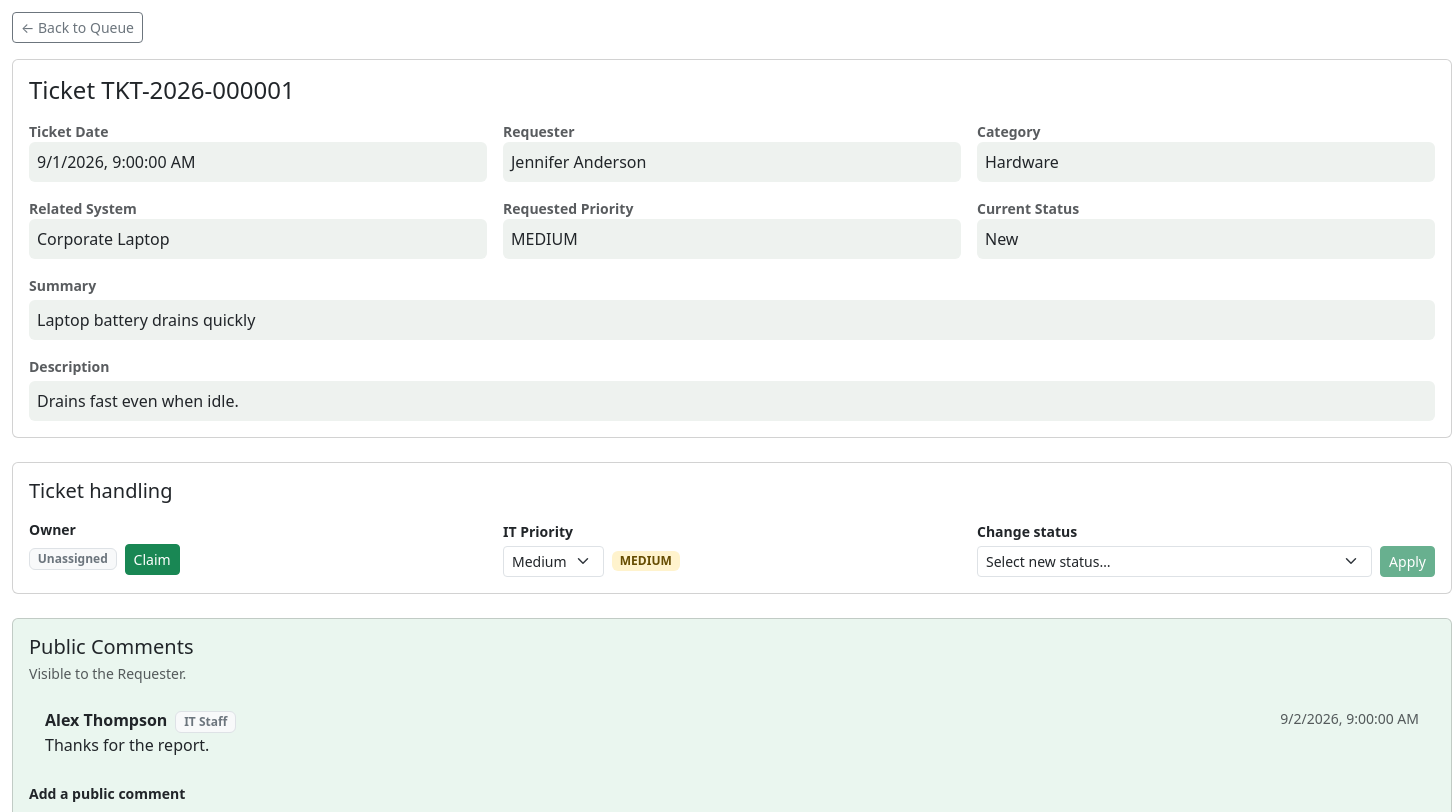
Test case: StaffTicketDetail › claims an unassigned ticket and then shows the owner
Expected: the heading "Ticket TKT-2026-000001" is shown, [29,73,295,106]
Click the button "Claim" at (152, 559), box [125,544,180,575]
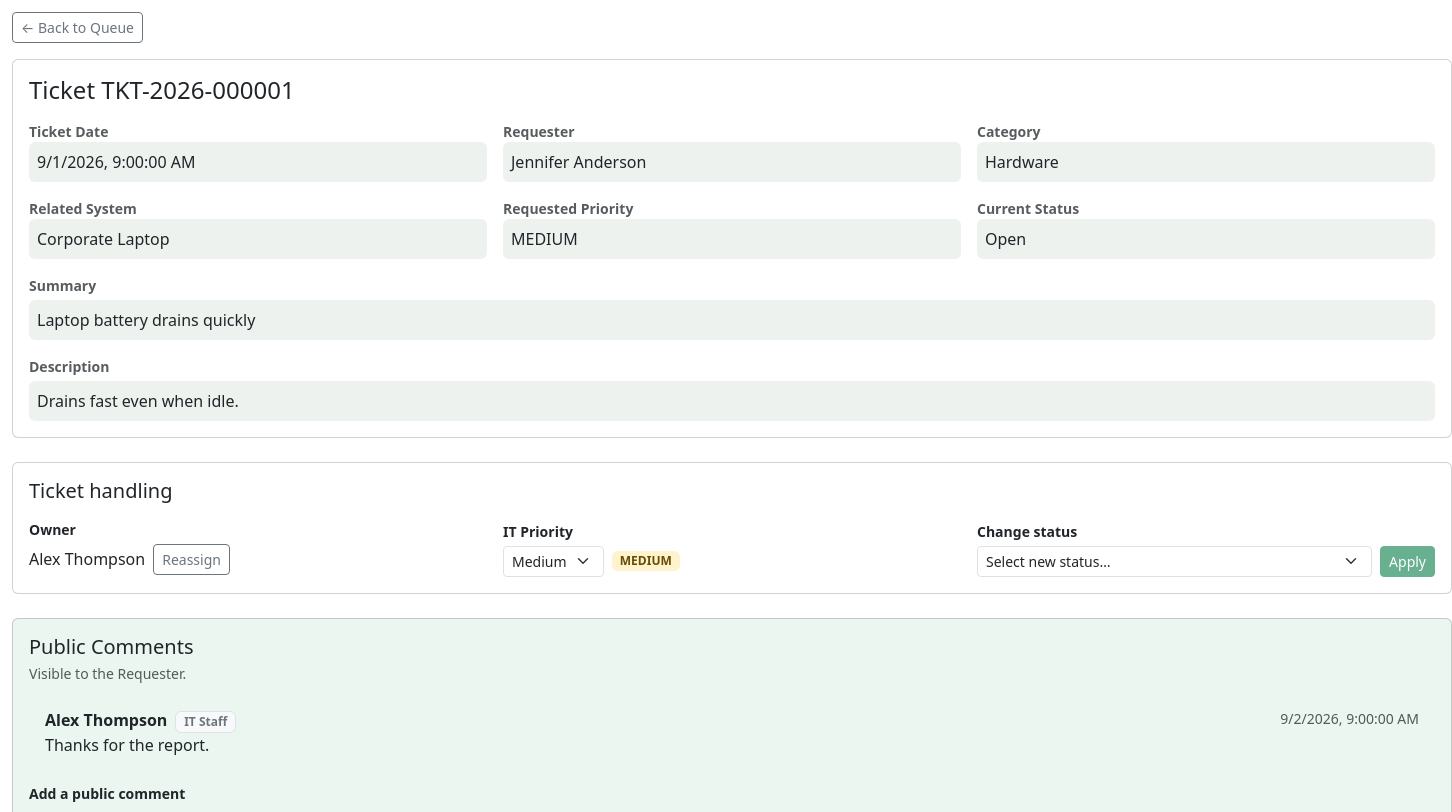
Expected: the text "Unassigned" is gone
Expected: the button "Claim" is gone
Expected: the button "Reassign" is shown, [153,544,230,575]
